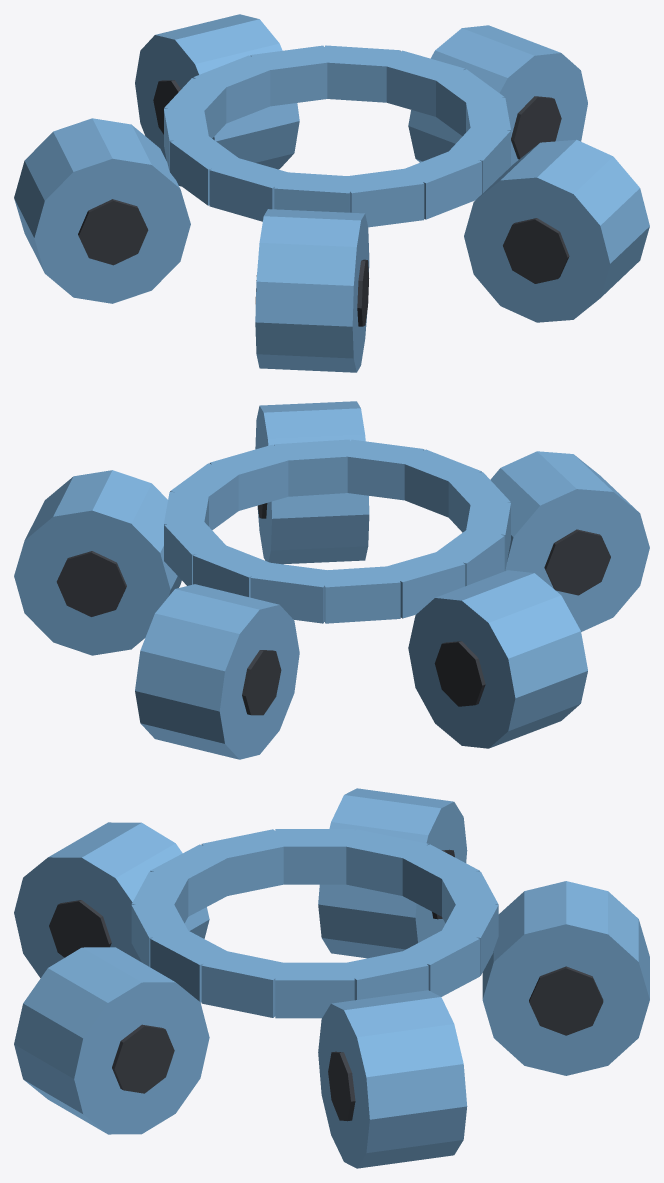
The model's file is chair_m1_1.glb.
3 renders of one model, top to bottom at view 1: azimuth 30°, elevation 25°; view 2: azimuth 150°, elevation 25°; view 3: azimuth 270°, elevation 25°, orthographic. The views are drawn at different scales.
Visible parts, largest first — view 1: chair_m1_1_mesh; view 2: chair_m1_1_mesh; view 3: chair_m1_1_mesh.
Part boxes in pixels (x1,y1,x2,y2): chair_m1_1_mesh: (14,14,649,372); chair_m1_1_mesh: (14,401,649,759); chair_m1_1_mesh: (14,788,649,1168).
Bounding box in the file's own units: 0.7188 × 0.18 × 0.6836.
